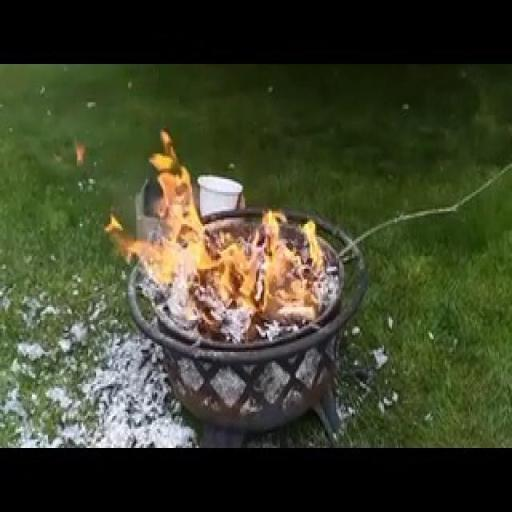smoke: (124, 120, 335, 337)
